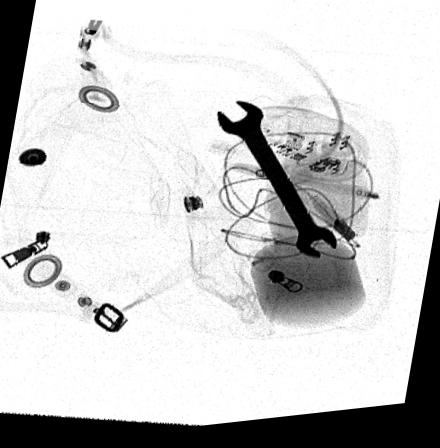Wrench: (217, 106, 338, 265)
